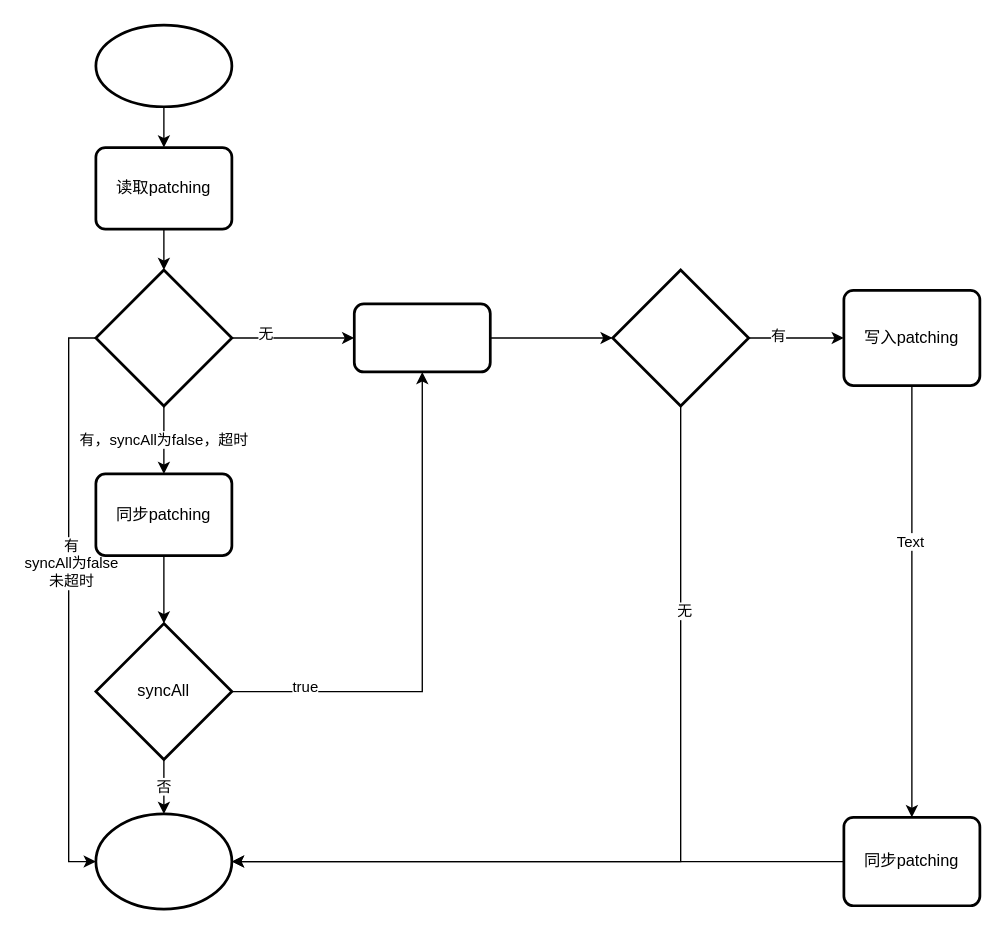
This 1004x933 diagram has some shape labels left out. Each missing label, with the box of its shape:
开始: (94, 23, 233, 107)
结束: (94, 812, 233, 910)
读取actions: (352, 302, 491, 373)
